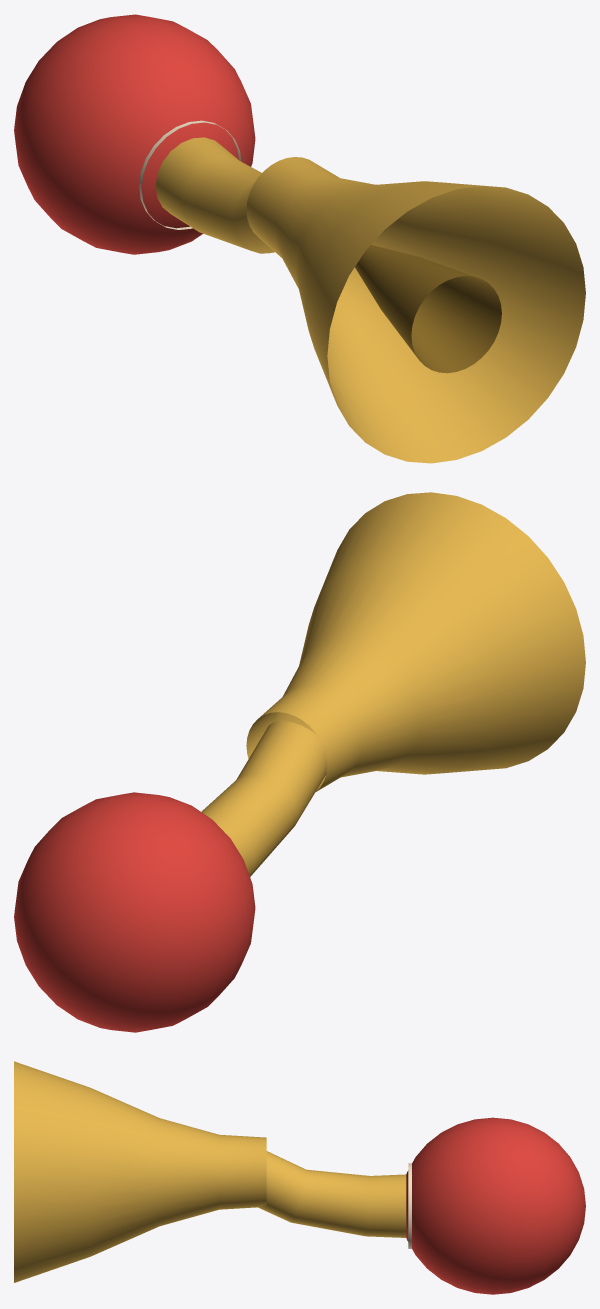
File: honk.glb
3 renders of one model, top to bottom at view 1: azimuth 30°, elevation 25°; view 2: azimuth 150°, elevation 25°; view 3: azimuth 270°, elevation 25°, orthographic. The views are drawn at different scales.
Visible parts, largest first — view 1: honk_Honk warm gold, honk_Honk red rubber, honk_Honk cream trim; view 2: honk_Honk warm gold, honk_Honk red rubber; view 3: honk_Honk warm gold, honk_Honk red rubber, honk_Honk cream trim.
Boxes of the visible parts, x1,y1,x2,y2 form: honk_Honk warm gold: [155, 137, 585, 463]; honk_Honk red rubber: [14, 14, 255, 254]; honk_Honk cream trim: [139, 120, 241, 229]; honk_Honk warm gold: [201, 492, 585, 876]; honk_Honk red rubber: [14, 792, 255, 1032]; honk_Honk warm gold: [14, 1061, 406, 1282]; honk_Honk red rubber: [406, 1117, 585, 1294]; honk_Honk cream trim: [408, 1163, 411, 1248].
Bounding box in the file's own units: 0.224 × 0.2394 × 0.5768.
